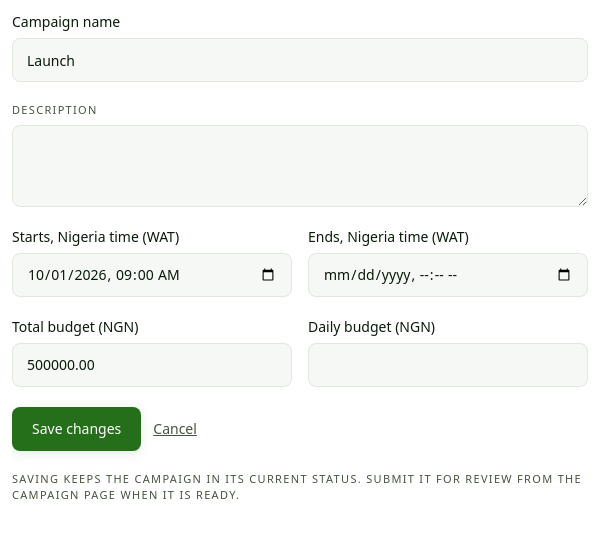
Scenario: CampaignEditForm › keeps the advertiser's edits and original references after a failed save
Replace the text in the field labelled "Campaign name" with "Launch v2". click: (300, 60)
box: left=12, top=38, right=588, bottom=82
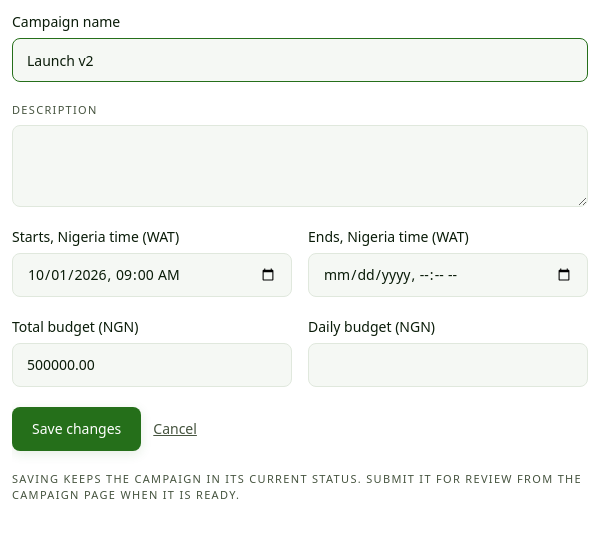
Type "900000" into the field labelled "Daily budget (NGN)". click: (448, 364)
box: left=308, top=342, right=588, bottom=386
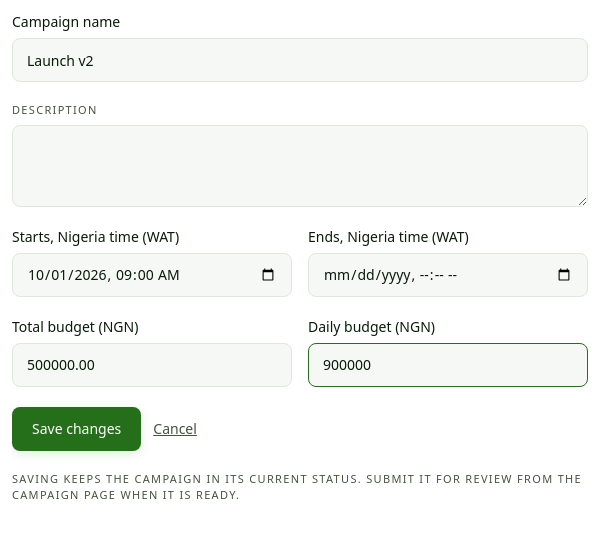
Click the button "Save changes". click: click(77, 428)
box: left=12, top=406, right=141, bottom=450
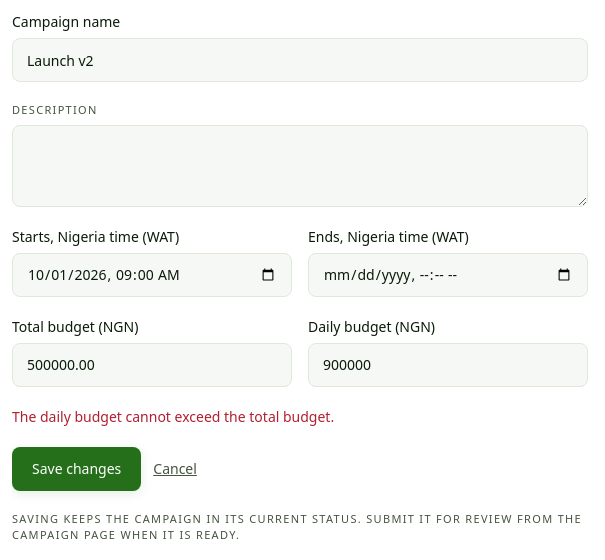
Check: the message reads "The daily budget cannot exceed the total budget.", box left=12, top=406, right=334, bottom=426
